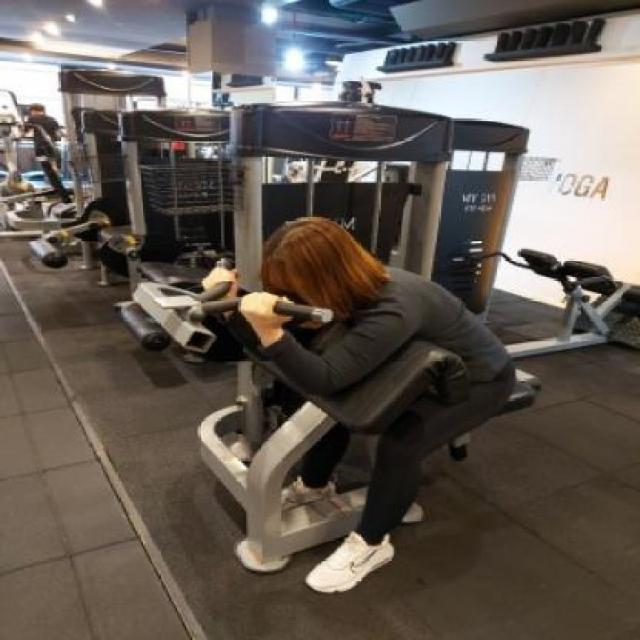arm curl machine: (189, 257, 543, 572)
